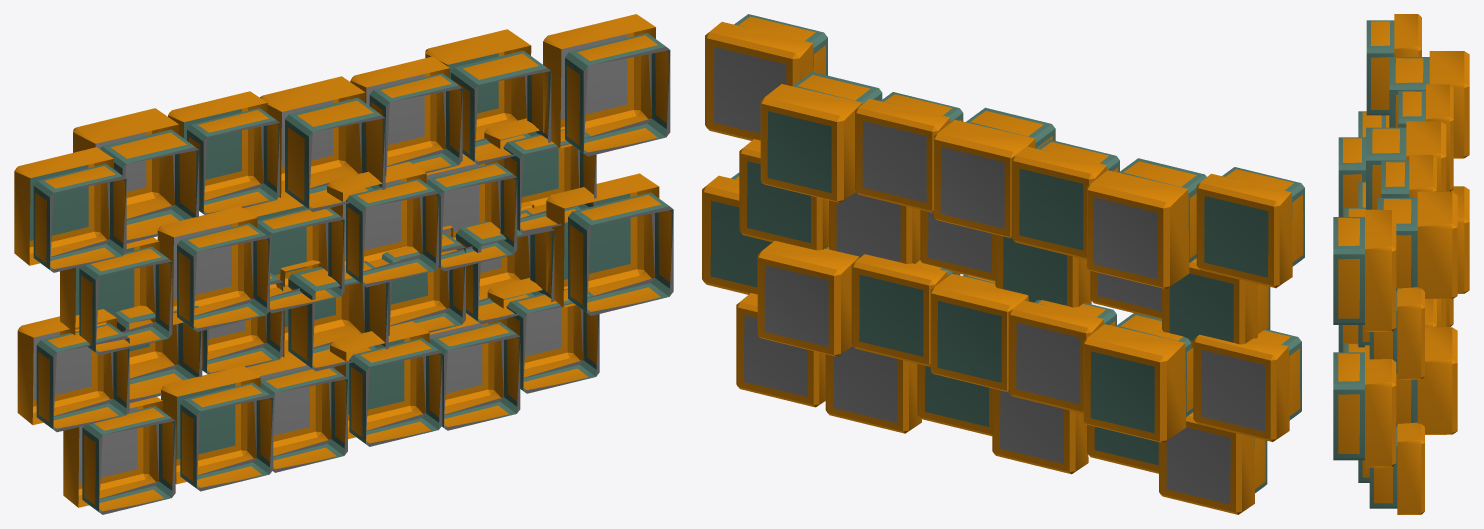
The model's file is GridBlockWall.fbx.
3 renders of one model, left to right at view 1: azimuth 30°, elevation 25°; view 2: azimuth 150°, elevation 25°; view 3: azimuth 270°, elevation 25°, orthographic. The views are drawn at different scales.
Parts seen in each view (by area): view 1: ToolCrate00.008; view 2: ToolCrate00.008; view 3: ToolCrate00.008.
Part boxes in pixels (<box>): ToolCrate00.008: <box>14,14,673,514</box>; ToolCrate00.008: <box>702,14,1304,514</box>; ToolCrate00.008: <box>1333,14,1469,514</box>.
Size of the model in its own units: 1510 by 837 by 347.
